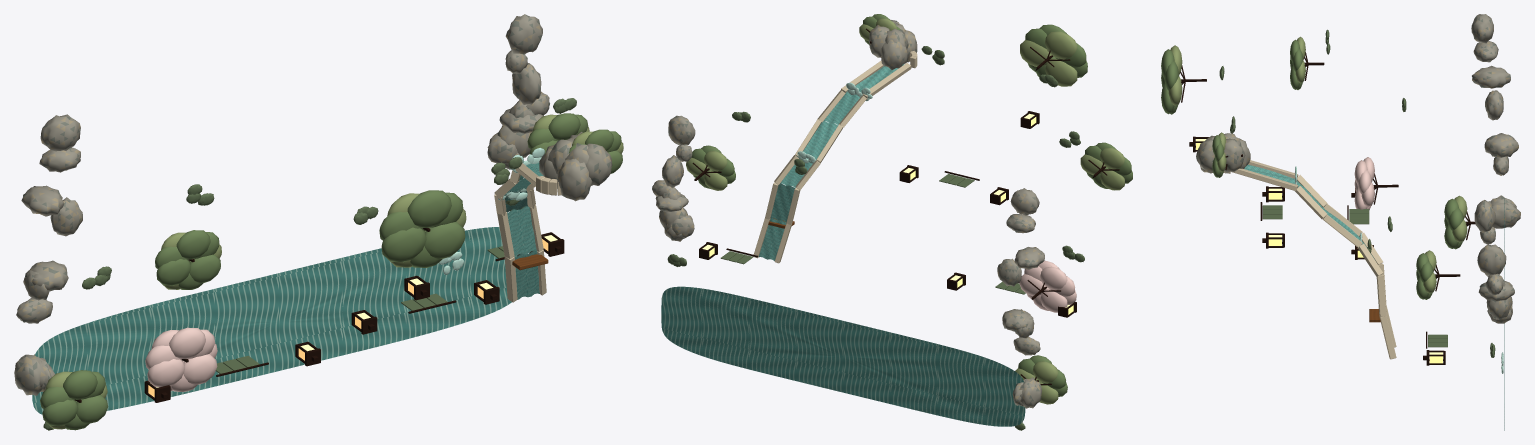
3 views of the same model, side by side, from view 1: azimuth 30°, elevation 25°; view 2: azimuth 150°, elevation 25°; view 3: azimuth 270°, elevation 25° (orthographic). The views are drawn at different scales.
Visible parts, largest first — view 1: 临水浅池, 山顶青松 · 冠簇, 茶屋樱枝 · 冠簇, 溪口小松 · 冠簇, 左亭庭树 · 冠簇, 磨坊侧青树 · 冠簇, 溪岸碎岩 01, 泉侧叠岩 6, 溪岸碎岩 08, 溪水 05, 泉边灌木 · 冠簇, 溪岸碎岩 05 (+10 smaller); view 2: 临水浅池, 山顶青松 · 冠簇, 茶屋樱枝 · 冠簇, 左亭庭树 · 冠簇, 磨坊侧青树 · 冠簇, 溪口小松 · 冠簇, 溪水 06, 溪岸碎岩 08, 泉侧叠岩 1, 溪水 03, 溪水 05, 溪岸碎岩 01 (+8 smaller); view 3: 山顶青松 · 冠簇, 溪口小松 · 冠簇, 茶屋樱枝 · 冠簇, 磨坊侧青树 · 冠簇, 左亭庭树 · 冠簇, 溪岸碎岩 10, 溪岸碎岩 17, 溪岸碎岩 07, 溪岸碎岩 09, 泉侧叠岩 2, 溪岸碎岩 01, 溪岸碎岩 08 (+7 smaller).
Boxes of the visible parts, bbox=[...] form: 临水浅池: bbox=[32, 227, 516, 414]; 山顶青松 · 冠簇: bbox=[379, 190, 466, 267]; 茶屋樱枝 · 冠簇: bbox=[145, 327, 217, 391]; 溪口小松 · 冠簇: bbox=[40, 370, 108, 430]; 左亭庭树 · 冠簇: bbox=[155, 230, 221, 289]; 磨坊侧青树 · 冠簇: bbox=[527, 113, 589, 157]; 溪岸碎岩 01: bbox=[40, 114, 80, 151]; 泉侧叠岩 6: bbox=[557, 158, 592, 201]; 溪岸碎岩 08: bbox=[505, 14, 542, 54]; 溪水 05: bbox=[507, 206, 536, 256]; 泉边灌木 · 冠簇: bbox=[569, 129, 623, 173]; 溪岸碎岩 05: bbox=[14, 354, 45, 395]; 临水浅池: bbox=[661, 286, 1025, 426]; 山顶青松 · 冠簇: bbox=[1020, 24, 1087, 86]; 茶屋樱枝 · 冠簇: bbox=[1019, 260, 1076, 312]; 左亭庭树 · 冠簇: bbox=[1080, 142, 1132, 190]; 磨坊侧青树 · 冠簇: bbox=[686, 145, 735, 190]; 溪口小松 · 冠簇: bbox=[1015, 355, 1067, 404]; 溪水 06: bbox=[758, 218, 786, 260]; 溪岸碎岩 08: bbox=[668, 115, 695, 145]; 泉侧叠岩 1: bbox=[881, 39, 907, 69]; 溪水 03: bbox=[803, 121, 837, 159]; 溪水 05: bbox=[770, 183, 795, 221]; 溪岸碎岩 01: bbox=[1010, 188, 1039, 215]; 山顶青松 · 冠簇: bbox=[1161, 45, 1182, 114]; 溪口小松 · 冠簇: bbox=[1444, 195, 1467, 249]; 茶屋樱枝 · 冠簇: bbox=[1354, 157, 1374, 209]; 磨坊侧青树 · 冠簇: bbox=[1416, 250, 1436, 299]; 左亭庭树 · 冠簇: bbox=[1290, 36, 1305, 89]; 溪岸碎岩 10: bbox=[1477, 244, 1506, 276]; 溪岸碎岩 17: bbox=[1472, 65, 1510, 88]; 溪岸碎岩 07: bbox=[1484, 133, 1518, 157]; 溪岸碎岩 09: bbox=[1492, 203, 1520, 228]; 泉侧叠岩 2: bbox=[1224, 138, 1245, 173]; 溪岸碎岩 01: bbox=[1471, 14, 1493, 43]; 溪岸碎岩 08: bbox=[1474, 200, 1495, 232].
Size of the model in its own units: 13.94 by 8.89 by 10.52.
Materials: 13 (3 with a texture image).
